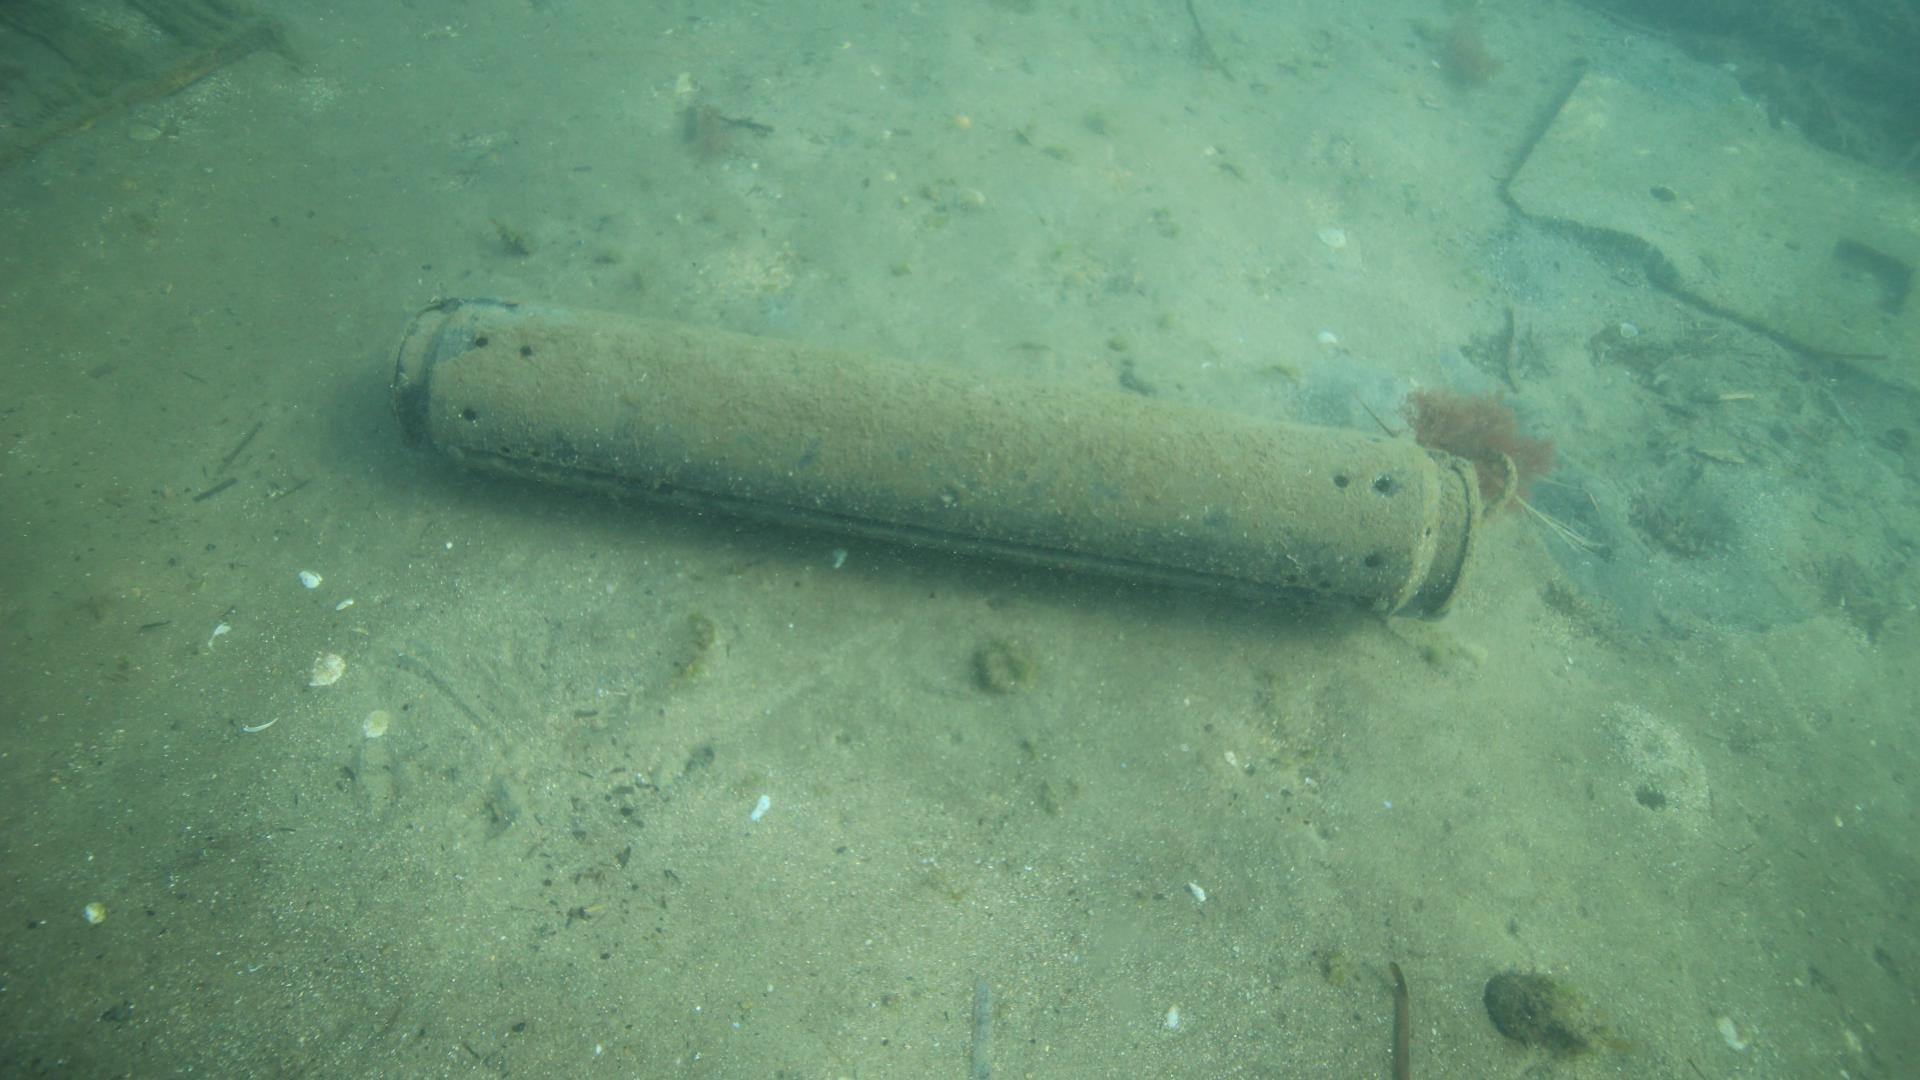eel fish trap: (389, 295, 1487, 622)
